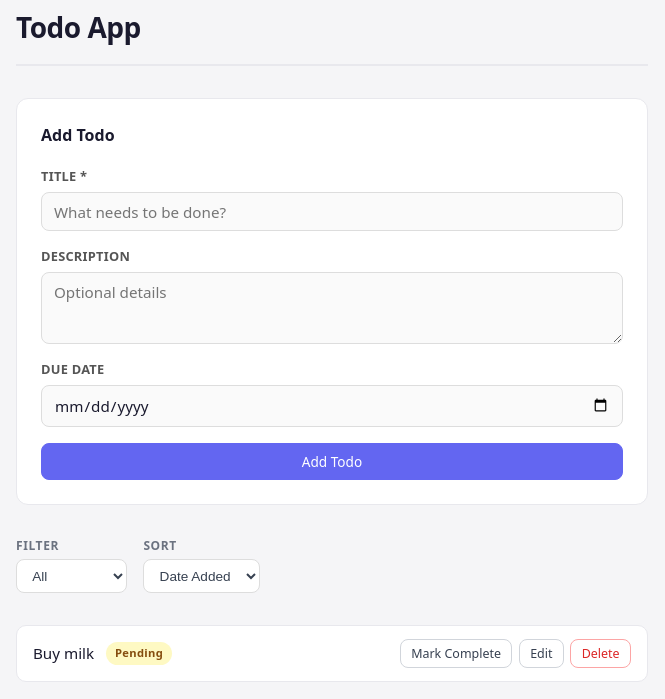
Test: App › switches to edit view when Edit is clicked from the list
Click the button "Edit" at x=541, y=654, box [519,639,564,668]
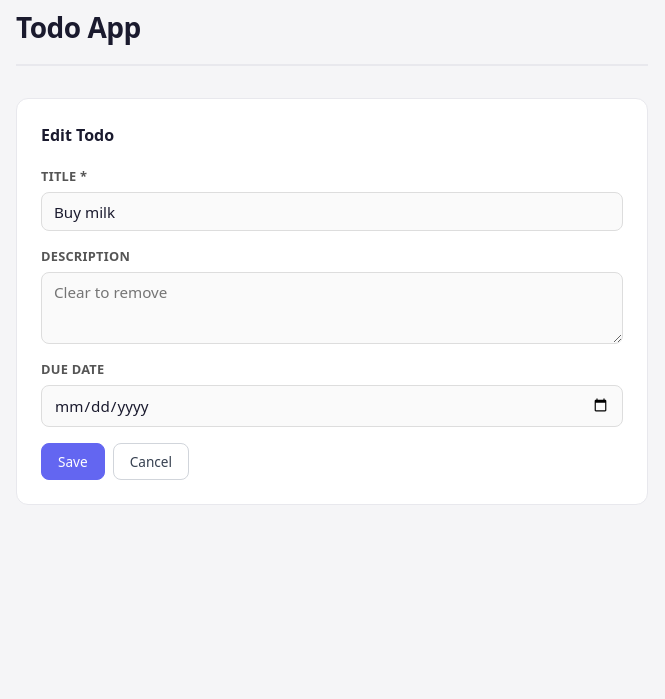
Expected: the button "Save" is shown, [41,442,105,480]
